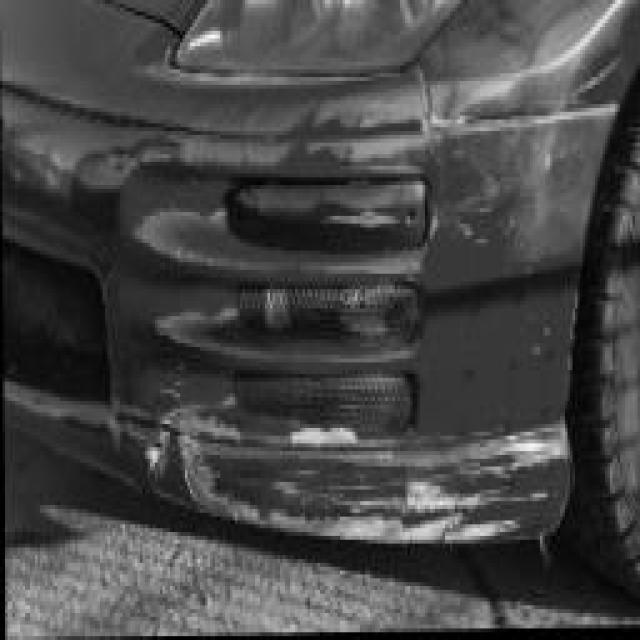Bumper: (2, 62, 584, 566)
